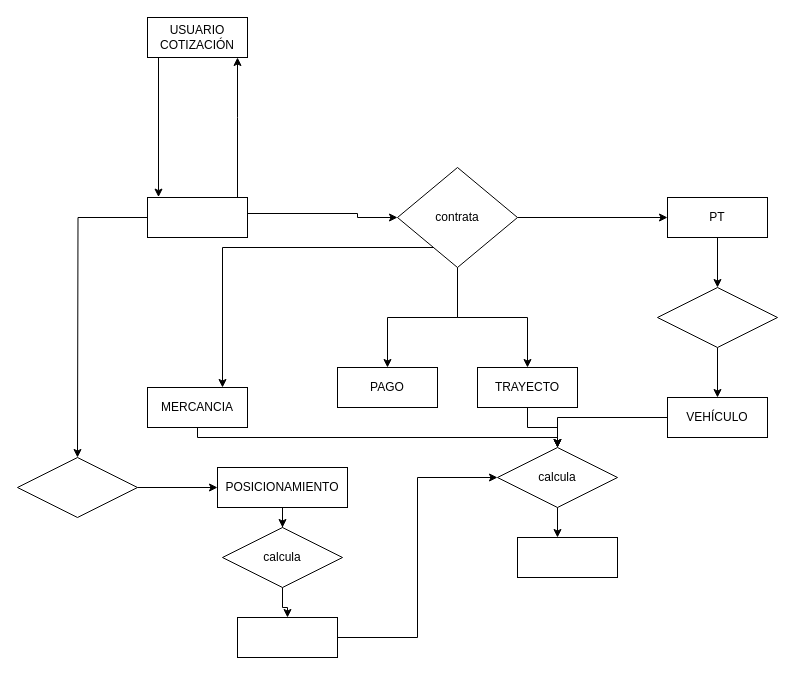
Image size: 795x675. Some labels were removed from this diagram. The centre of each missing label's shape, as x and y in pixels:
"evalua" belongs at point 77,487.
"PORCENTAJES" belongs at point 287,637.
"TARIFAS" belongs at point 567,557.
"USUARIO" belongs at point 197,217.
"utiliza" belongs at point 717,317.
